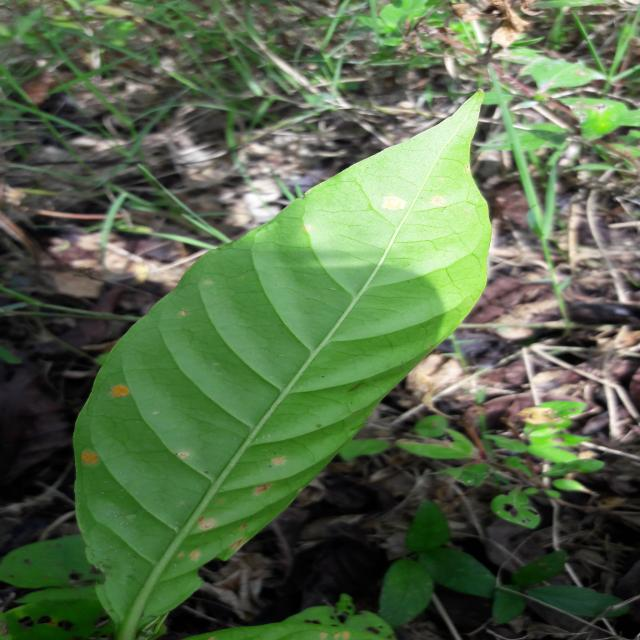Enfermedad-Roya: (71, 92, 493, 640)
